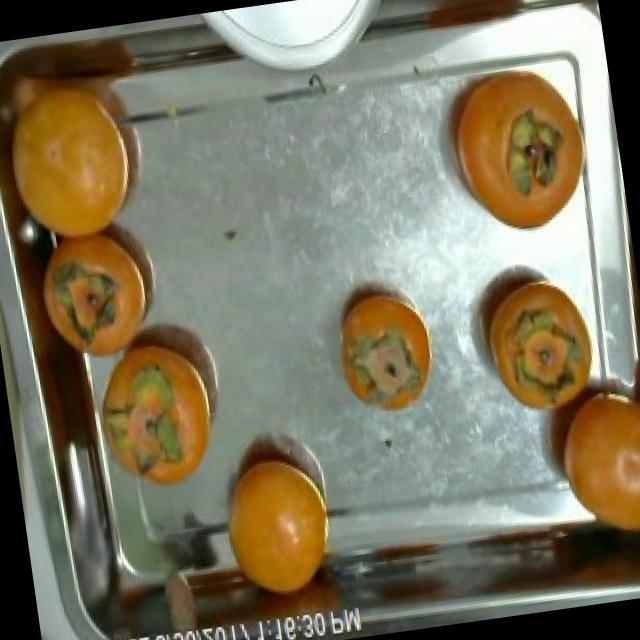Fruit: (0, 43, 181, 265), (422, 32, 595, 256), (196, 415, 348, 619), (88, 316, 247, 509), (462, 253, 604, 432), (319, 266, 455, 433), (535, 367, 640, 557)
